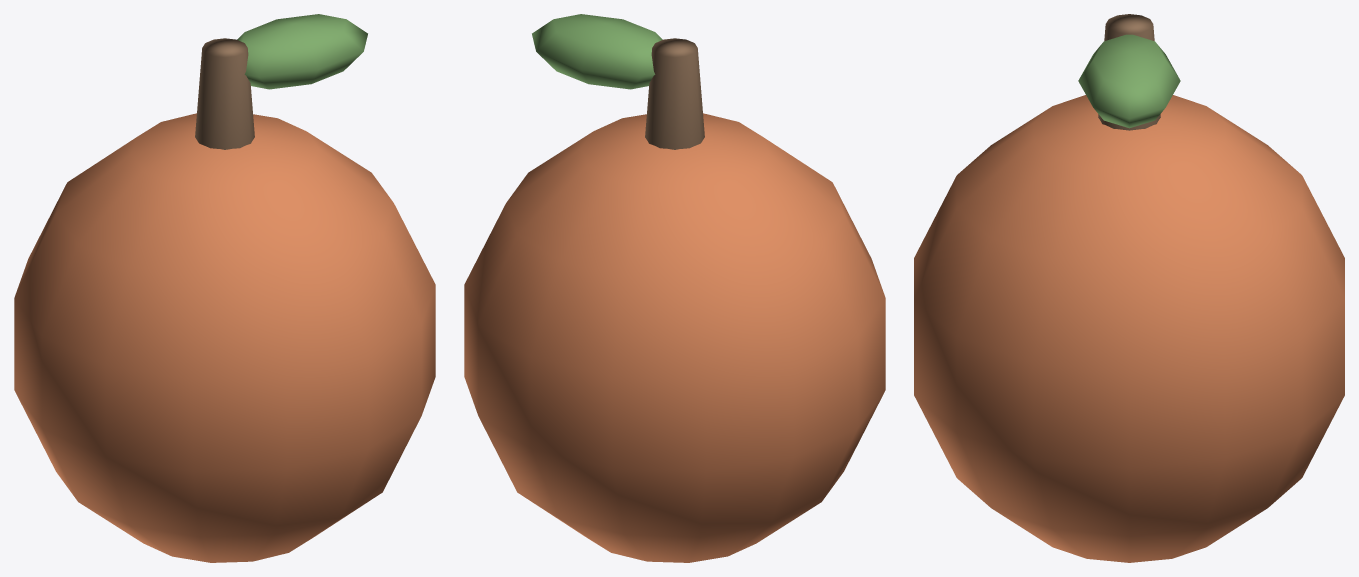
Rendered from harvest_fruit_hand.glb.
3 views of the same model, side by side, from view 1: azimuth 30°, elevation 25°; view 2: azimuth 150°, elevation 25°; view 3: azimuth 270°, elevation 25° (orthographic). The views are drawn at different scales.
Bounding box in the file's own units: 0.1852 × 0.2435 × 0.1806.
